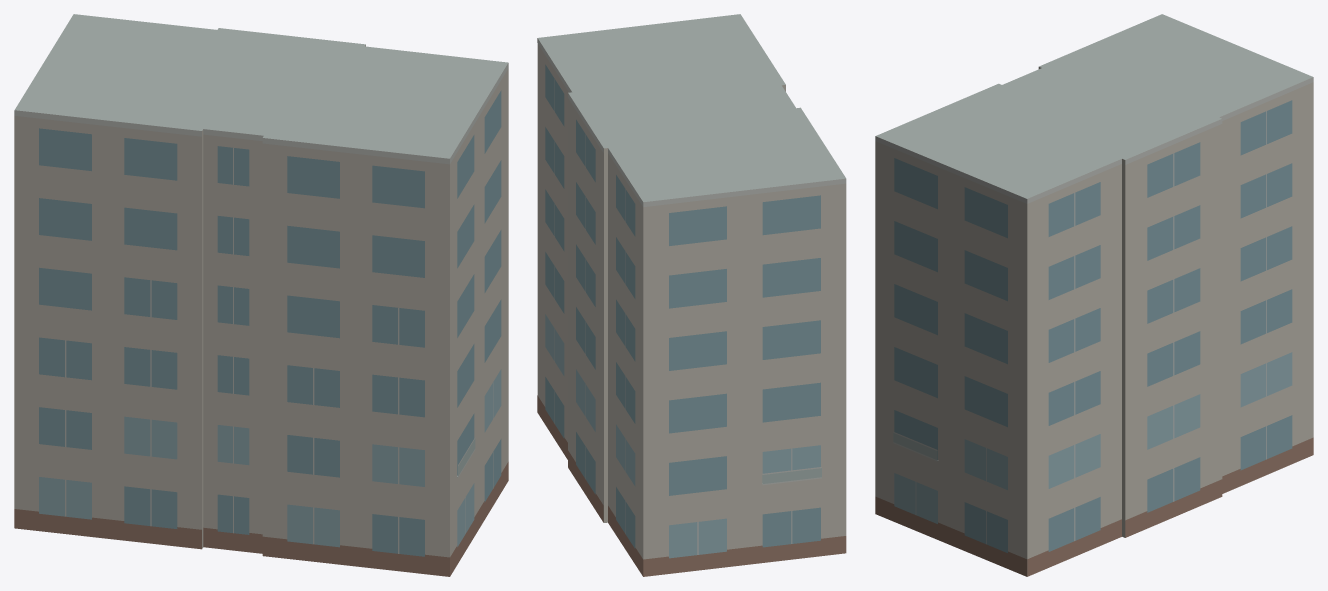
Rendered from survey-upis-32845274.glb.
The picture shows the model from 3 angles, left to right: view 1: azimuth 30°, elevation 25°; view 2: azimuth 150°, elevation 25°; view 3: azimuth 270°, elevation 25°; orthographic projection. The views are drawn at different scales.
Visible parts, largest first — view 1: survey-upis-32845274.tmp; view 2: survey-upis-32845274.tmp; view 3: survey-upis-32845274.tmp.
Boxes of the visible parts, left/top/right/bottom form: survey-upis-32845274.tmp: left=14, top=14, right=508, bottom=576; survey-upis-32845274.tmp: left=537, top=14, right=846, bottom=576; survey-upis-32845274.tmp: left=875, top=14, right=1313, bottom=576.
Bounding box in the file's own units: 19.22 × 18.3 × 19.23.
